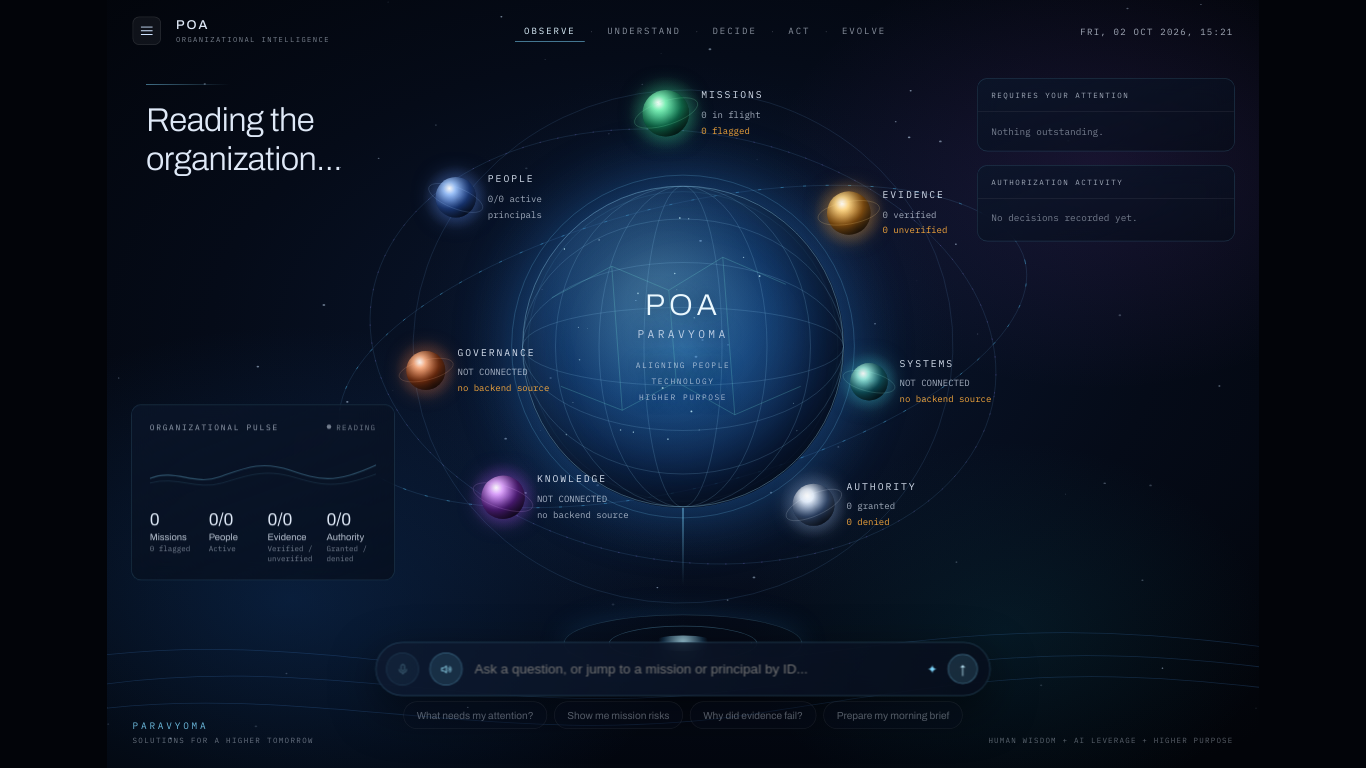
Test: Project Surface — POA-PJR-001 › states an empty registry plainly rather than inventing content
Click the button named "Open command overlay" at [147, 31], box [132,16,161,45]
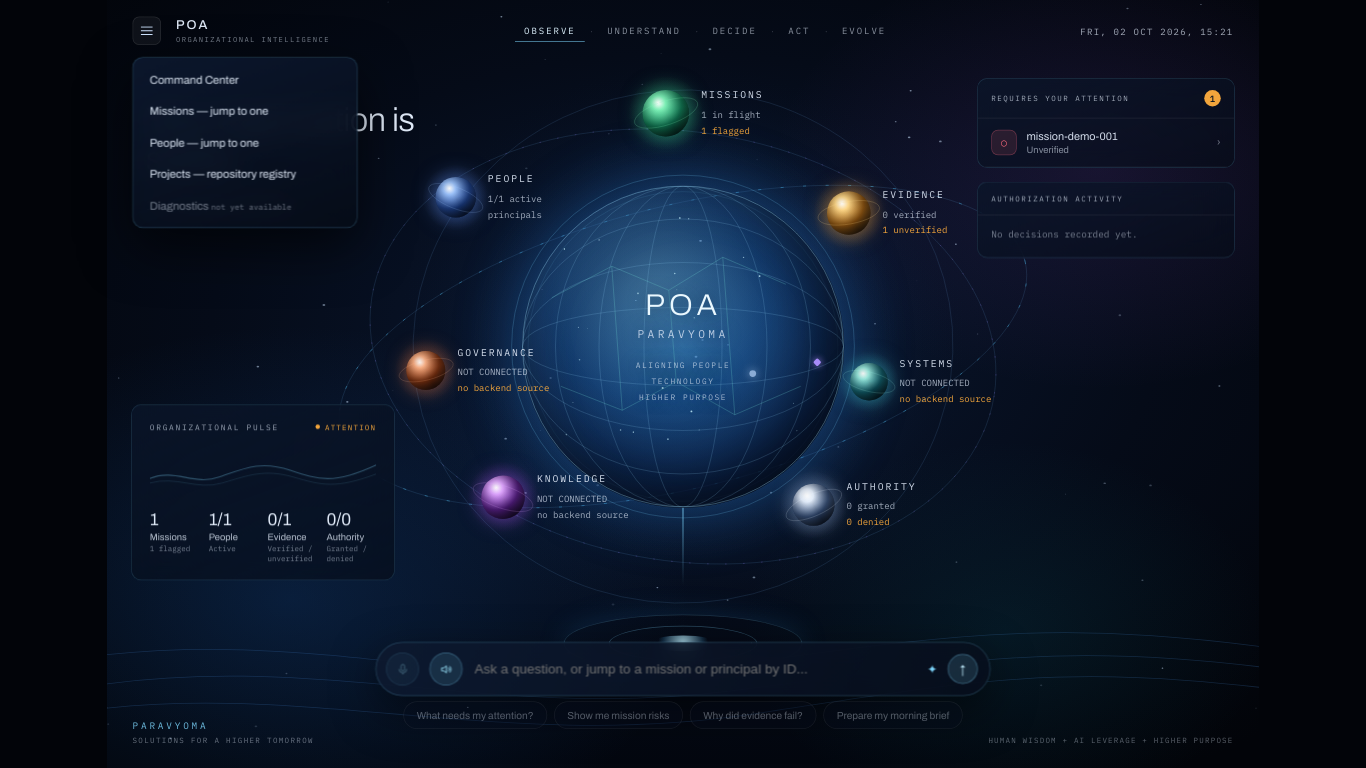
Click the button "Projects — repository registry" at [245, 174], box [139,158,351,190]
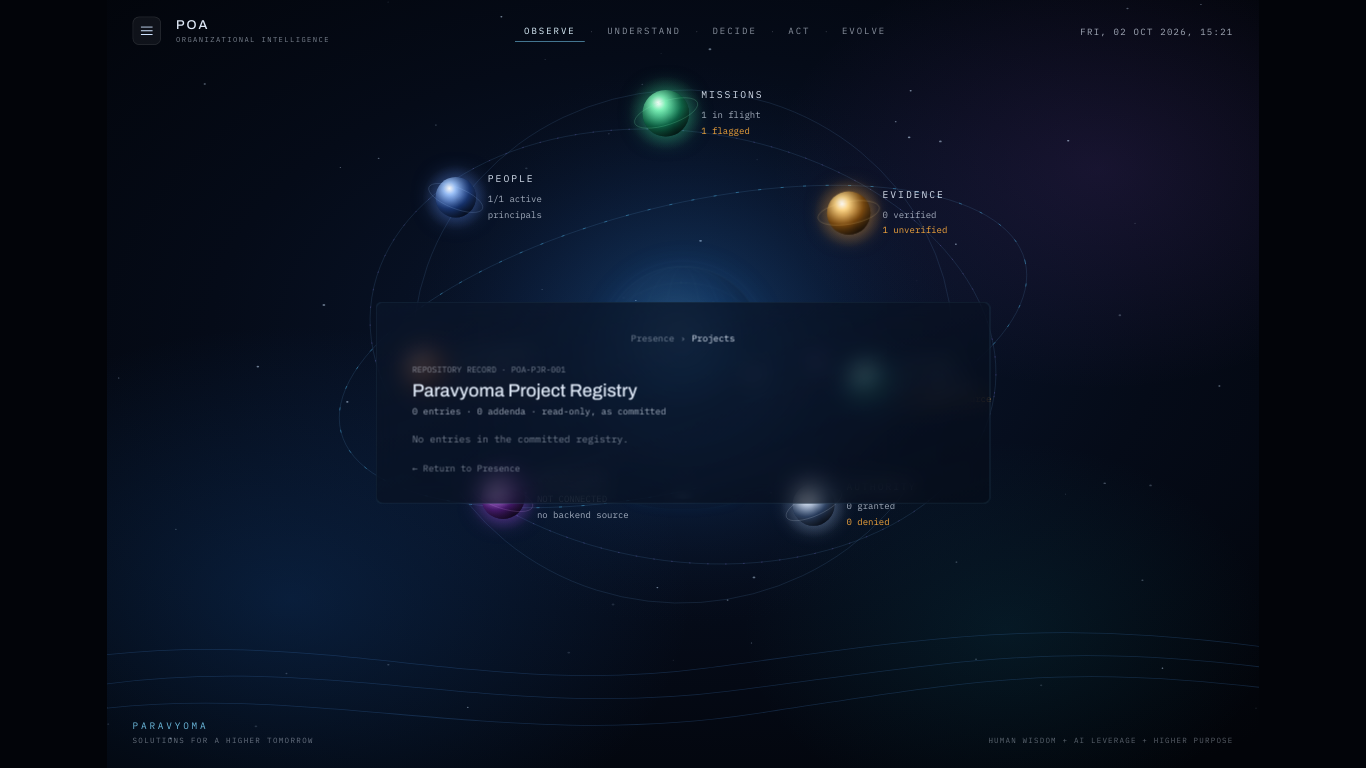
Expected: the text "No entries in the committed registry." is shown, [412,433,629,446]
Expected: the text "0 entries · 0 addenda · read-only, as committed" is shown, [412,405,666,416]
